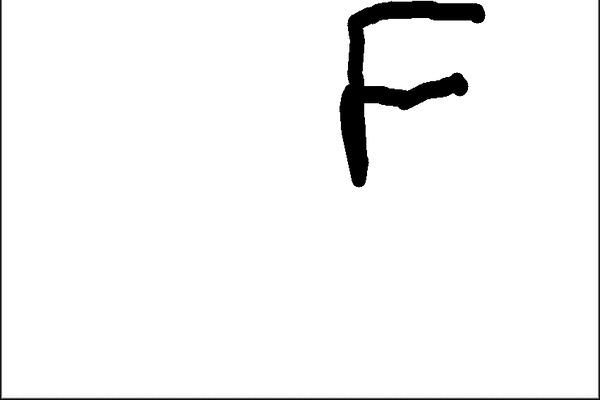F: (334, 0, 486, 191)
